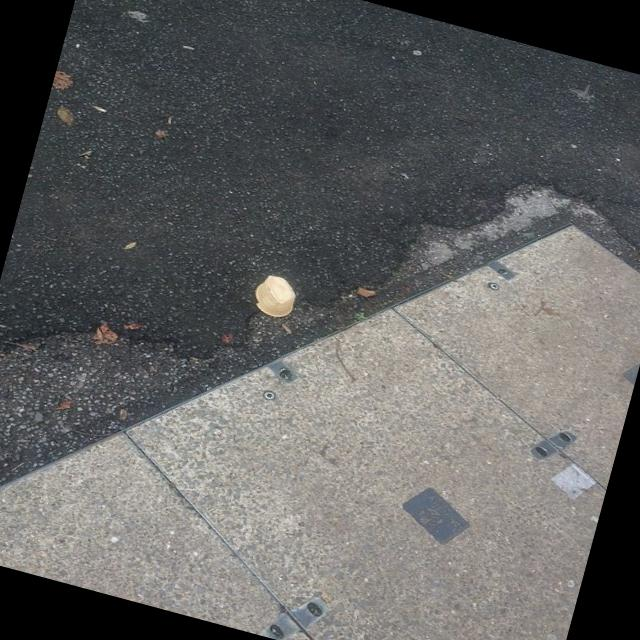Trash: (247, 269, 301, 327)
